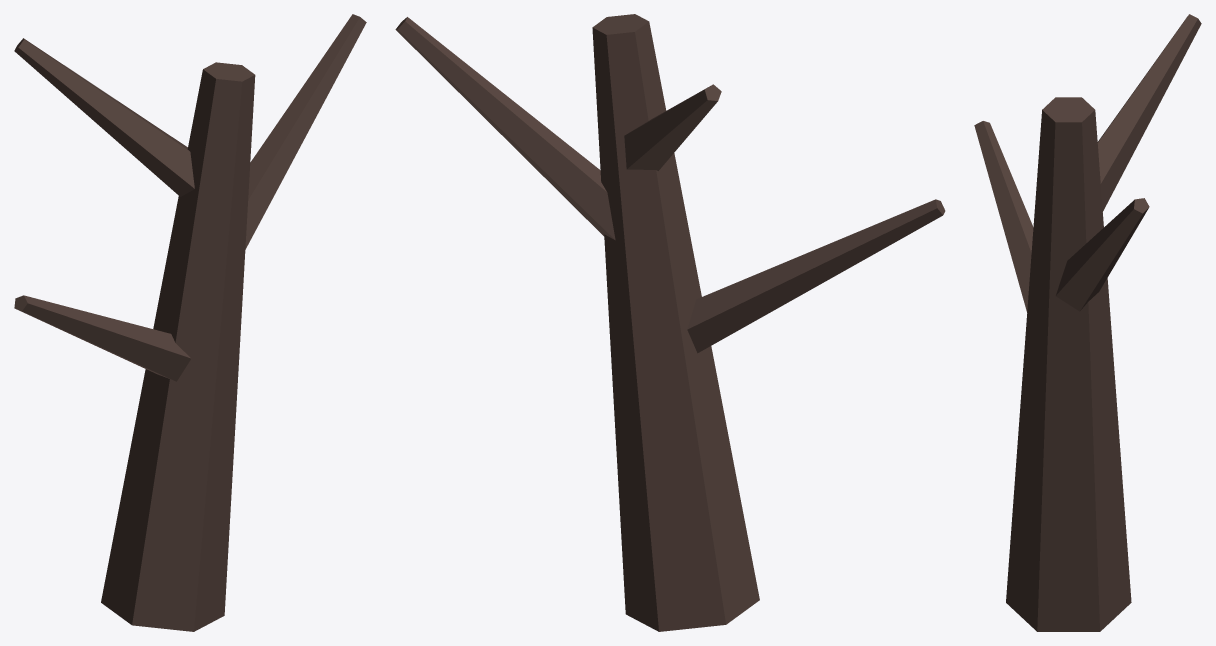
File: EXTG_SouthThorn_02.glb
The picture shows the model from 3 angles, left to right: view 1: azimuth 30°, elevation 25°; view 2: azimuth 150°, elevation 25°; view 3: azimuth 270°, elevation 25°; orthographic projection. The views are drawn at different scales.
Parts seen in each view (by area): view 1: EXTG_SouthThorn_02; view 2: EXTG_SouthThorn_02; view 3: EXTG_SouthThorn_02.
Boxes of the visible parts, <box> form: EXTG_SouthThorn_02: <box>14,14,366,631</box>; EXTG_SouthThorn_02: <box>395,14,945,631</box>; EXTG_SouthThorn_02: <box>974,14,1201,631</box>.
Size of the model in its own units: 1.03 by 1.27 by 0.4705.
